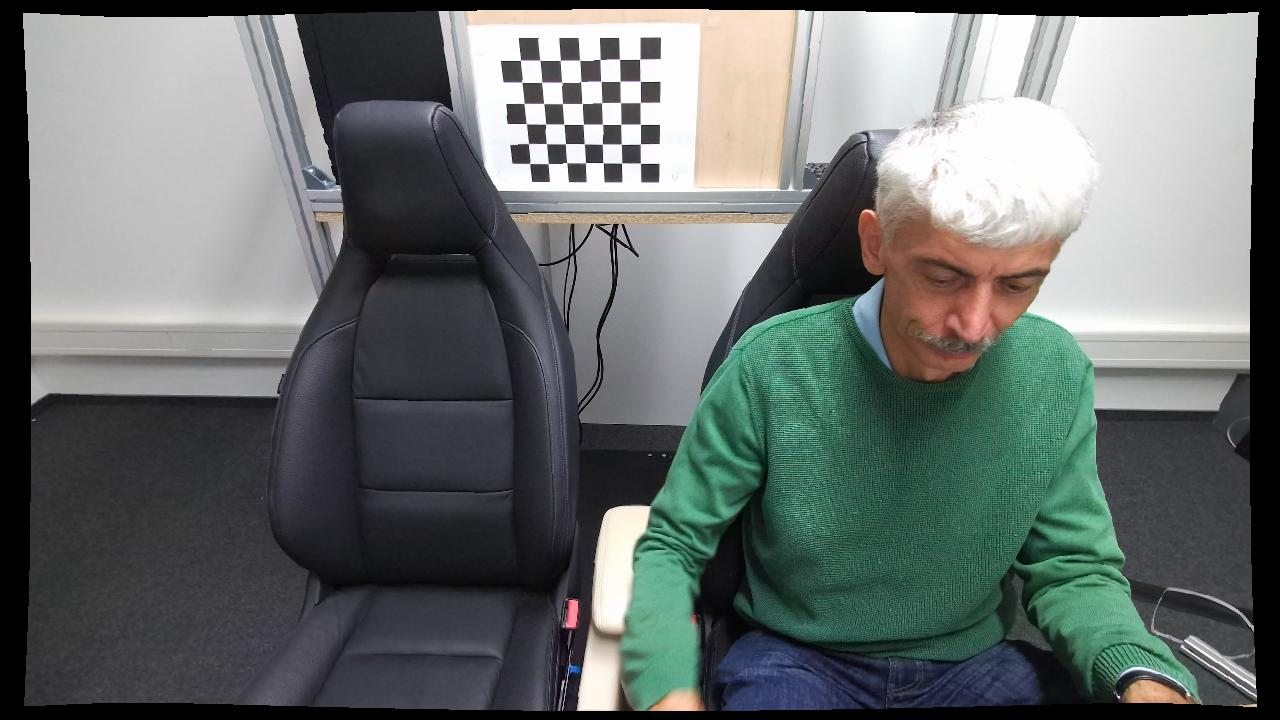Distracted: (617, 94, 1203, 709)
